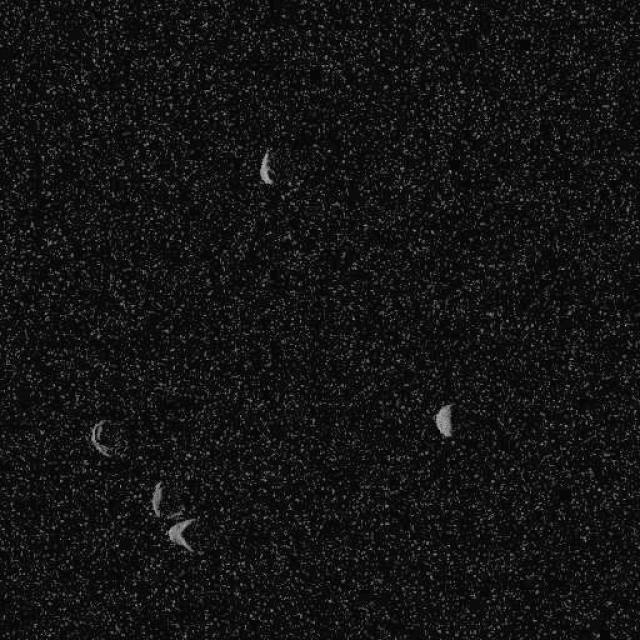D2: (87, 418, 115, 458), (165, 516, 196, 552), (434, 402, 454, 438), (257, 148, 275, 186), (150, 478, 165, 518)
